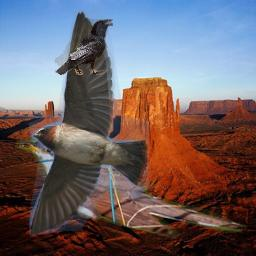Crow: (55, 19, 113, 75)
Cuckoo: (15, 131, 250, 245)
Swallow: (29, 10, 149, 237)
